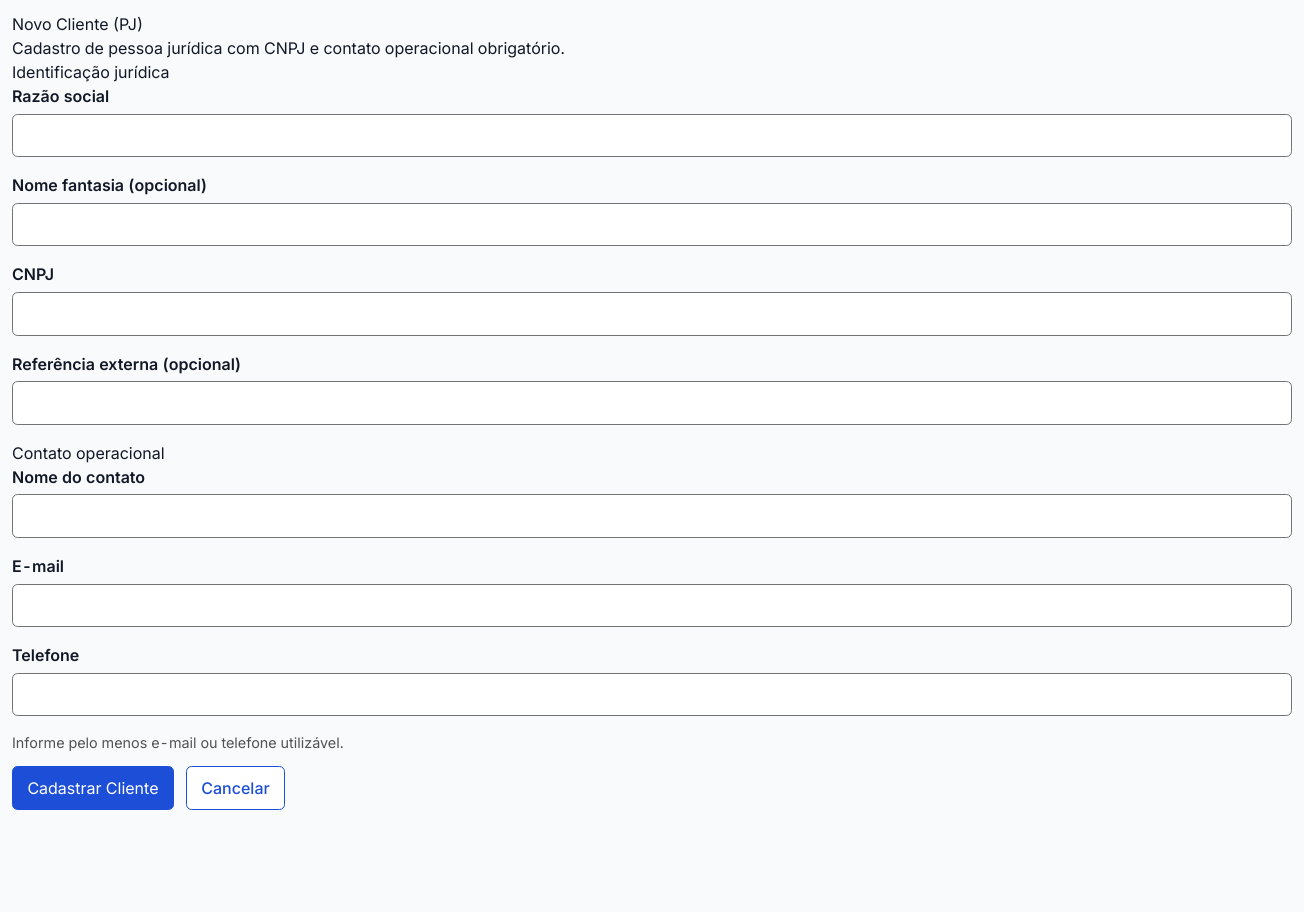
Test: ClientCreatePage › shows validation errors for invalid create
This screenshot has width=1304, height=912.
Expected: the heading "Novo Cliente (PJ)" is shown, [12,14,143,34]
Click the button "Cadastrar Cliente": (93, 788) [12,766,174,810]
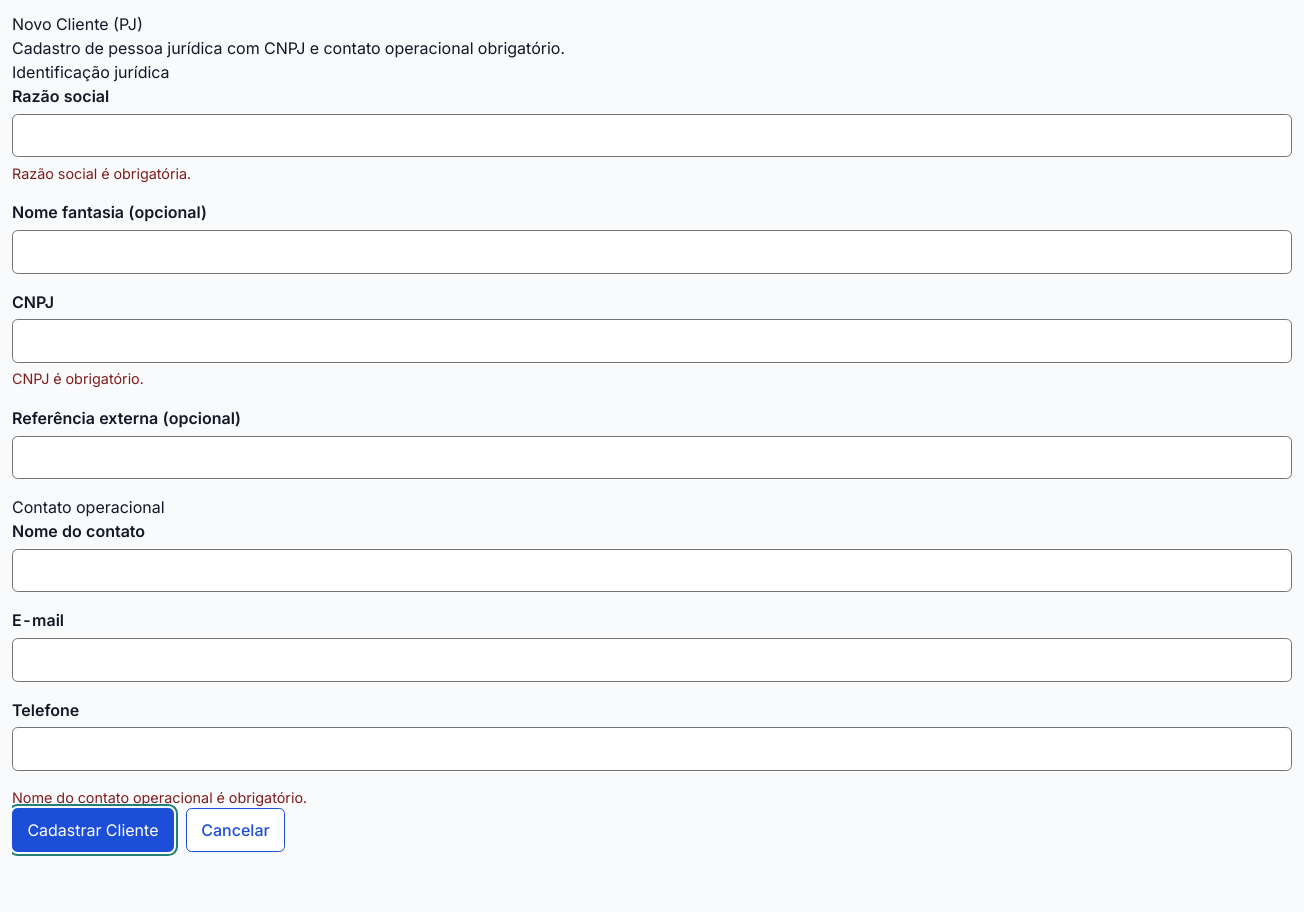
Now the text "Razão social é obrigatória." is shown, box [12,165,191,182]
